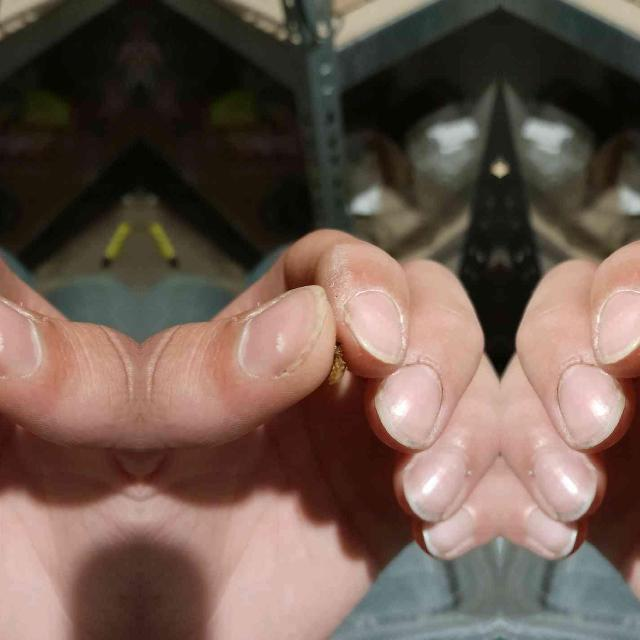Lasius: (320, 337, 350, 387)
